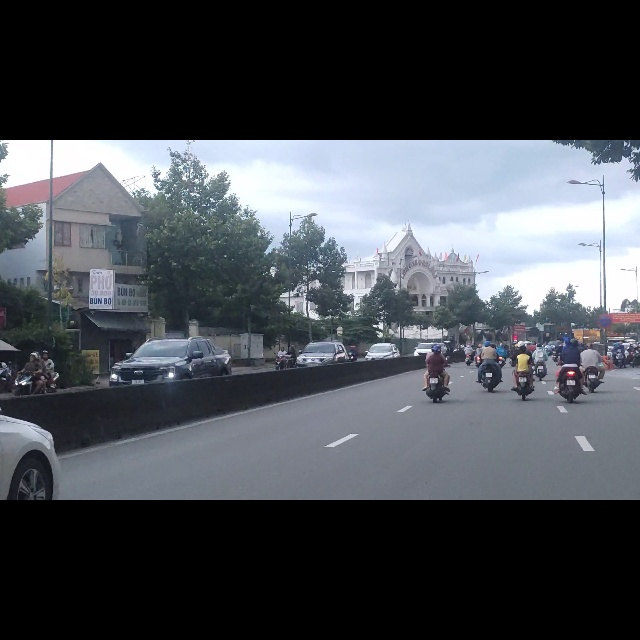bien_cam: (598, 310, 612, 334)
